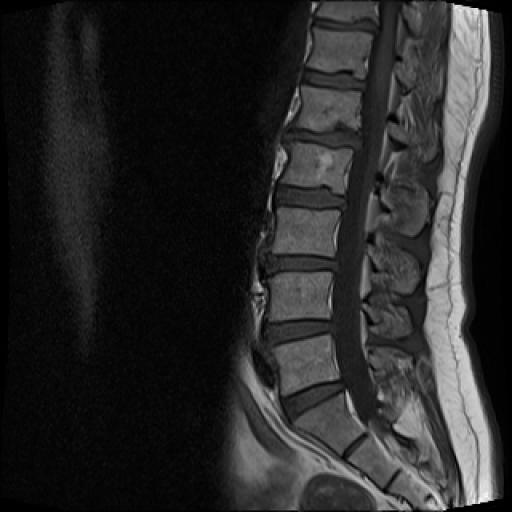L1: (295, 86, 360, 132)
L2: (280, 144, 352, 194)
L3: (274, 210, 340, 256)
L4: (268, 272, 333, 322)
L5: (273, 334, 340, 396)
S1: (295, 393, 363, 454)
